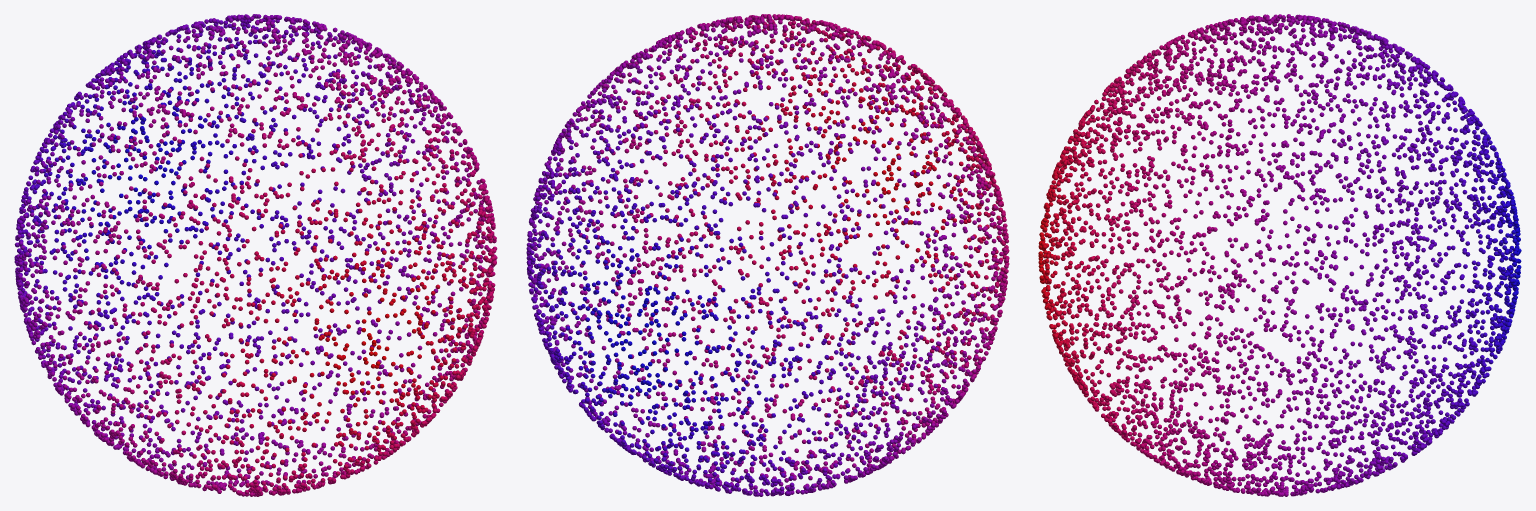
Rendered from fsaverage_rh_geodesic.glb.
3 renders of one model, left to right at view 1: azimuth 30°, elevation 25°; view 2: azimuth 150°, elevation 25°; view 3: azimuth 270°, elevation 25°, orthographic.
Parts seen in each view (by area): view 1: world; view 2: world; view 3: world.
Part boxes in pixels (x1,y1,x2,y2): world: [14, 14, 497, 496]; world: [526, 14, 1009, 496]; world: [1038, 14, 1521, 496].
Size of the model in its own units: 202 by 202 by 202.
